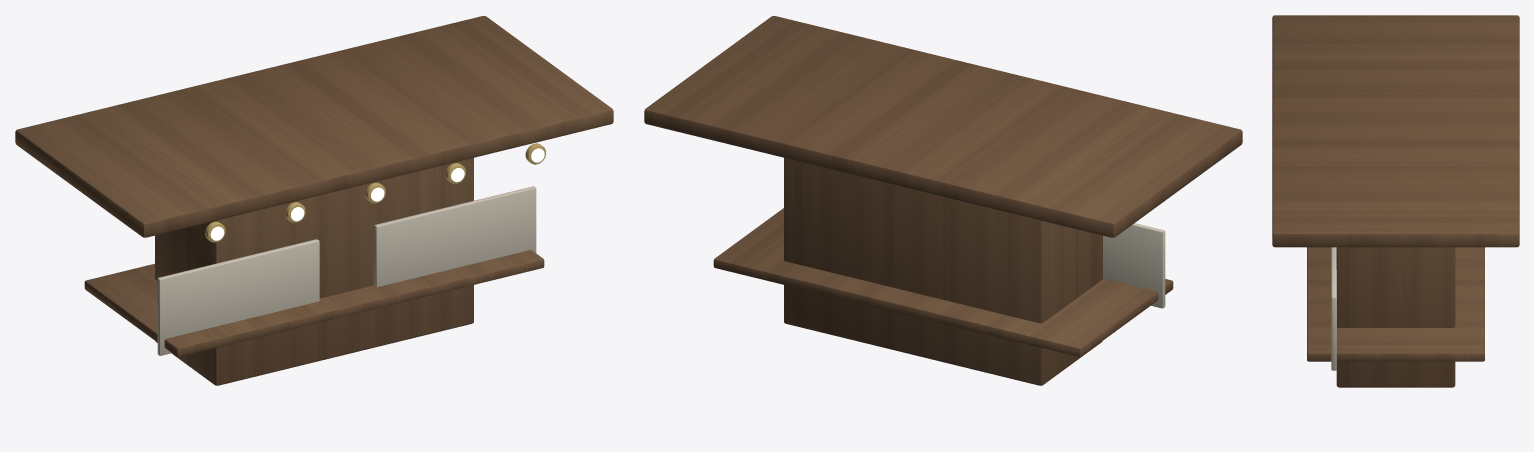
File: pf_display_feature_table_t5.glb
The picture shows the model from 3 angles, left to right: view 1: azimuth 30°, elevation 25°; view 2: azimuth 150°, elevation 25°; view 3: azimuth 270°, elevation 25°; orthographic projection. The views are drawn at different scales.
Parts seen in each view (by area): view 1: Feature_Table_Top, Feature_Table_Plinth, Lower_Display_Deck, Inset_Panel_-0.54, Inset_Panel_+0.54; view 2: Feature_Table_Top, Feature_Table_Plinth, Lower_Display_Deck, Inset_Panel_-0.54; view 3: Feature_Table_Top, Feature_Table_Plinth, Lower_Display_Deck, Inset_Panel_+0.54.
Part boxes in pixels (left/top/right/bottom): Feature_Table_Top: left=15, top=16, right=613, bottom=237; Feature_Table_Plinth: left=155, top=158, right=473, bottom=385; Lower_Display_Deck: left=84, top=250, right=544, bottom=356; Inset_Panel_-0.54: left=157, top=239, right=319, bottom=355; Inset_Panel_+0.54: left=374, top=186, right=536, bottom=287; Feature_Table_Top: left=644, top=16, right=1242, bottom=237; Feature_Table_Plinth: left=784, top=158, right=1102, bottom=385; Lower_Display_Deck: left=713, top=208, right=1173, bottom=356; Inset_Panel_-0.54: left=1103, top=223, right=1165, bottom=308; Feature_Table_Top: left=1272, top=15, right=1519, bottom=247; Feature_Table_Plinth: left=1336, top=247, right=1455, bottom=387; Lower_Display_Deck: left=1307, top=247, right=1484, bottom=361; Inset_Panel_+0.54: left=1331, top=247, right=1336, bottom=370.
Size of the model in its own units: 2.35 by 1.02 by 1.12.
5 materials, 1 textured.
